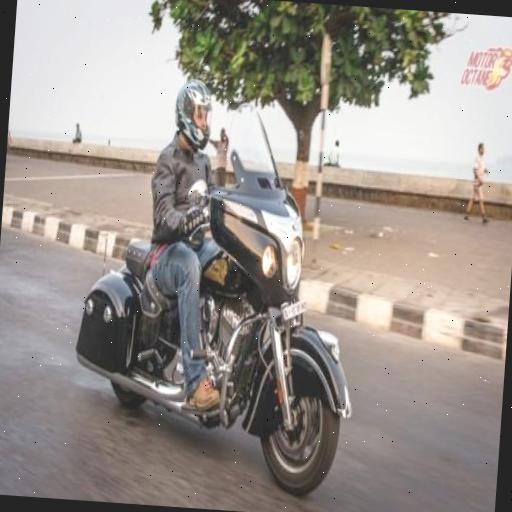helmet: (111, 54, 314, 452)
